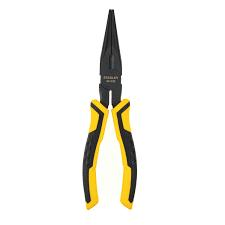pliers: (81, 7, 138, 210)
